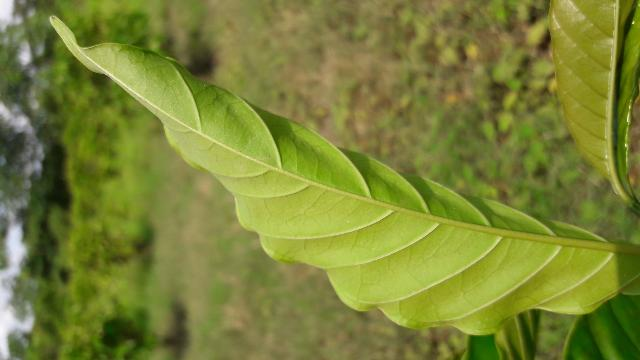healthy: (48, 14, 638, 333)
